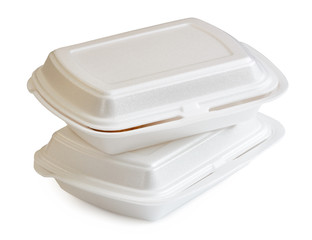styrofoam: (25, 16, 291, 156)
